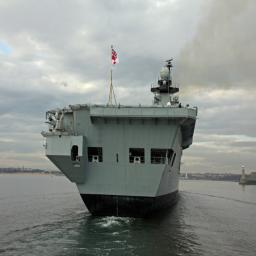Portanaves: (44, 33, 203, 225)
